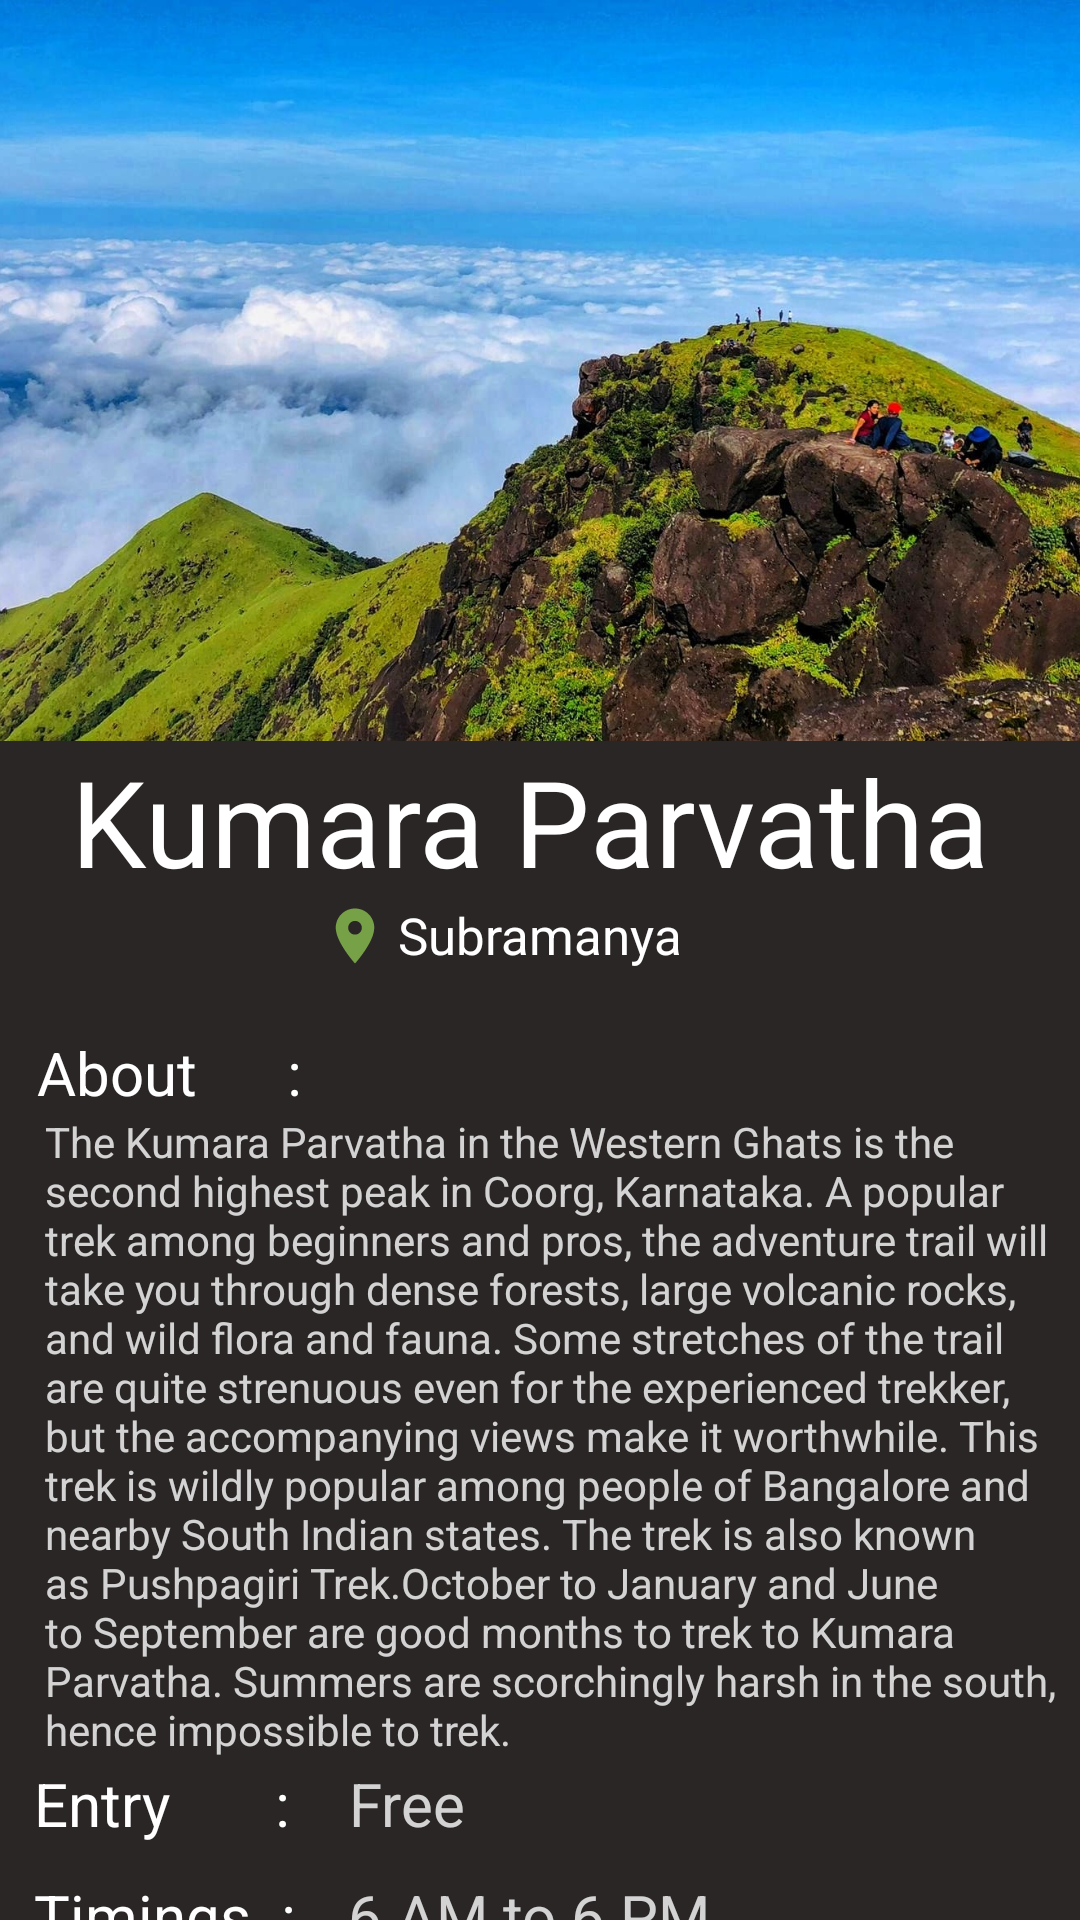

Icon click points for this 1080w x 1920h phone screenshot, format (x=x, y=y):
location: (x=355, y=935)
